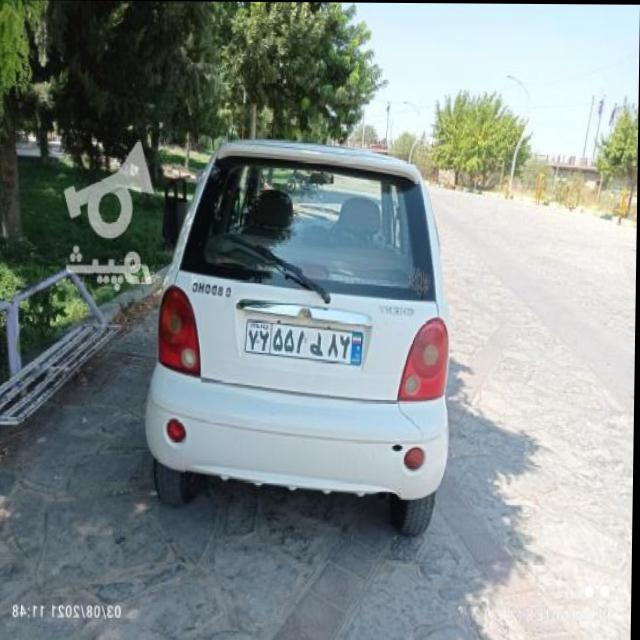licence: (249, 315, 368, 363)
